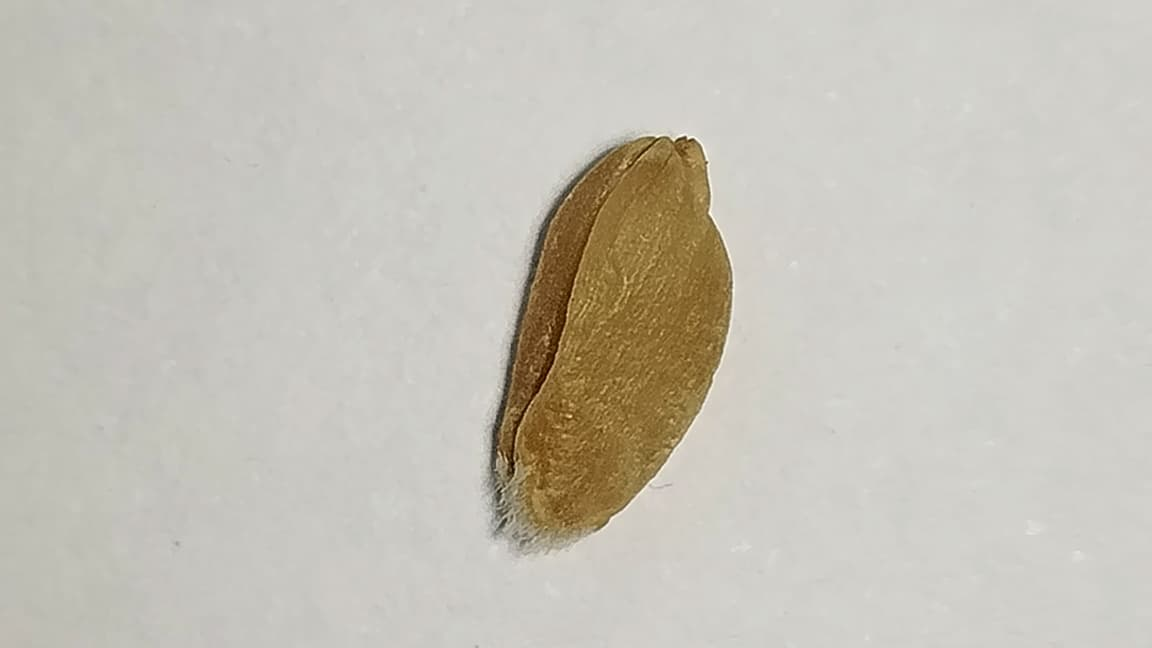healthy: (495, 137, 730, 548)
